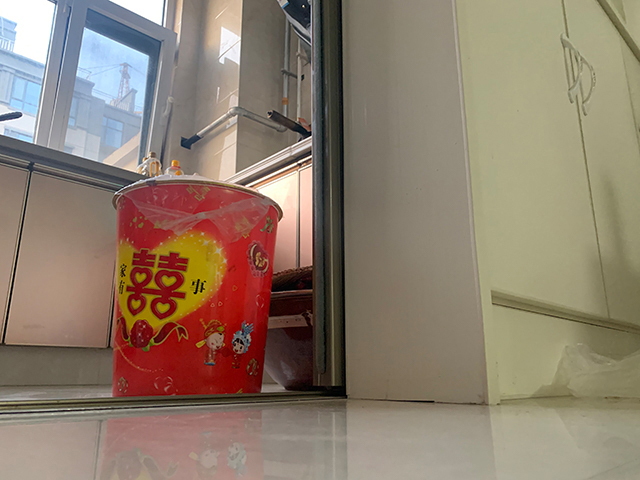cabinet: (344, 1, 640, 404), (1, 135, 318, 387)
trashcan: (110, 175, 284, 399)
